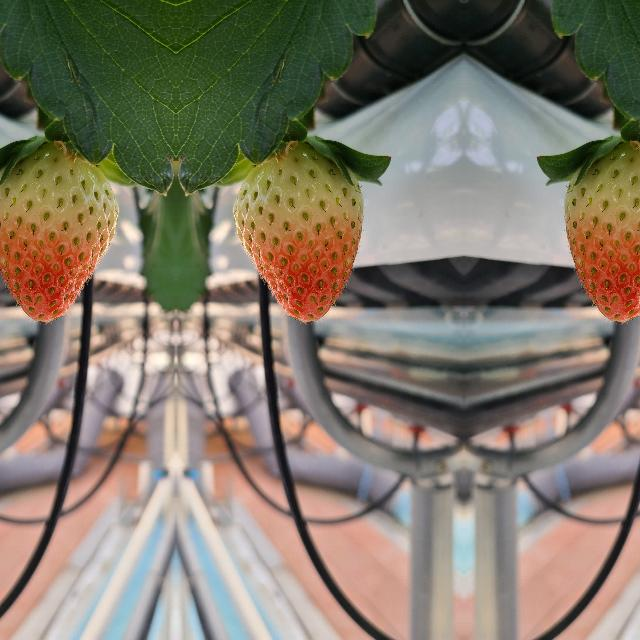Health_50: (232, 143, 364, 324), (0, 143, 118, 324), (561, 143, 640, 324)
